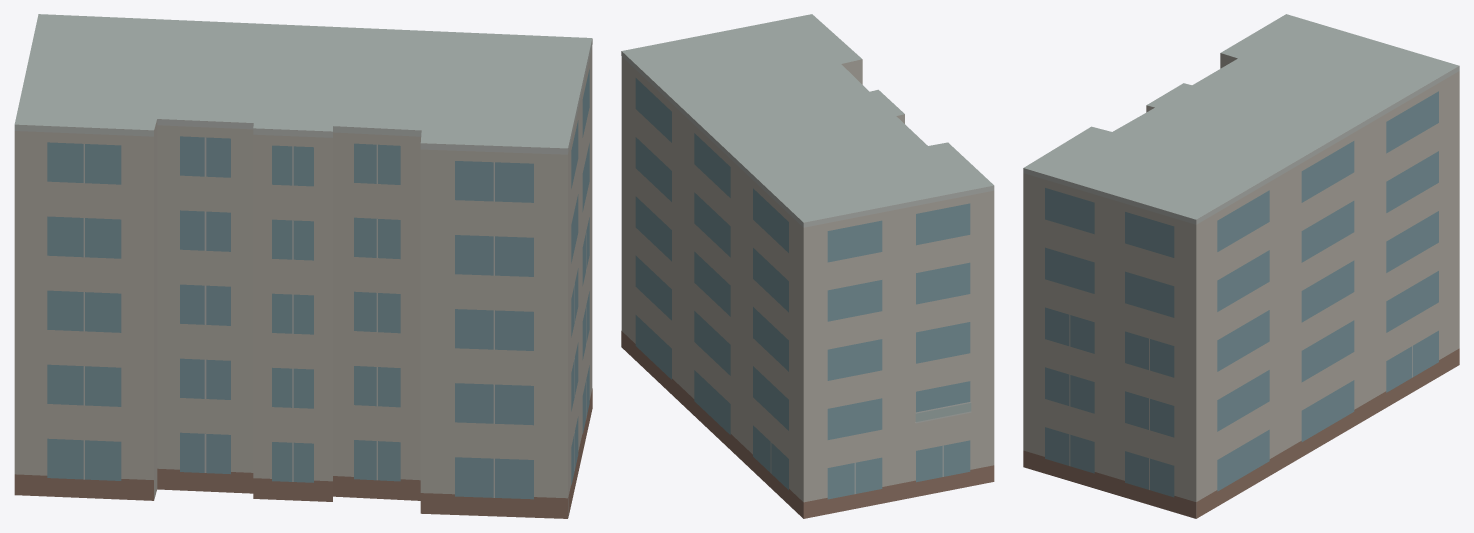
Rendered from survey-upis-32555757.glb.
3 views of the same model, side by side, from view 1: azimuth 30°, elevation 25°; view 2: azimuth 150°, elevation 25°; view 3: azimuth 270°, elevation 25° (orthographic). The views are drawn at different scales.
Visible parts, largest first — view 1: survey-upis-32555757.tmp; view 2: survey-upis-32555757.tmp; view 3: survey-upis-32555757.tmp.
Boxes of the visible parts, x1=… form: survey-upis-32555757.tmp: x1=14, y1=14, x2=592, y2=518; survey-upis-32555757.tmp: x1=621, y1=14, x2=994, y2=518; survey-upis-32555757.tmp: x1=1023, y1=14, x2=1459, y2=518.
Bounding box in the file's own units: 21.1 × 14.3 × 18.91.
